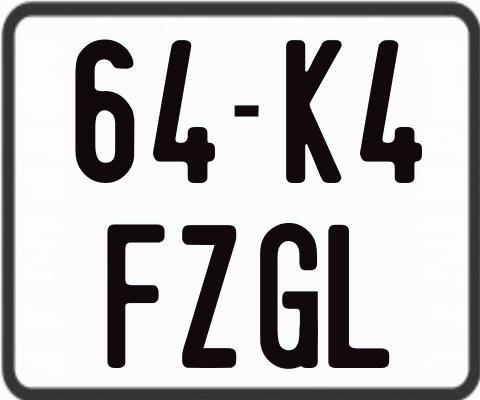4: (153, 38, 220, 185), (360, 38, 426, 187)
6: (75, 40, 135, 184)
F: (104, 221, 168, 369)
G: (257, 223, 316, 374)
K: (284, 37, 345, 184)
L: (328, 222, 389, 371)
Z: (182, 225, 241, 368)
